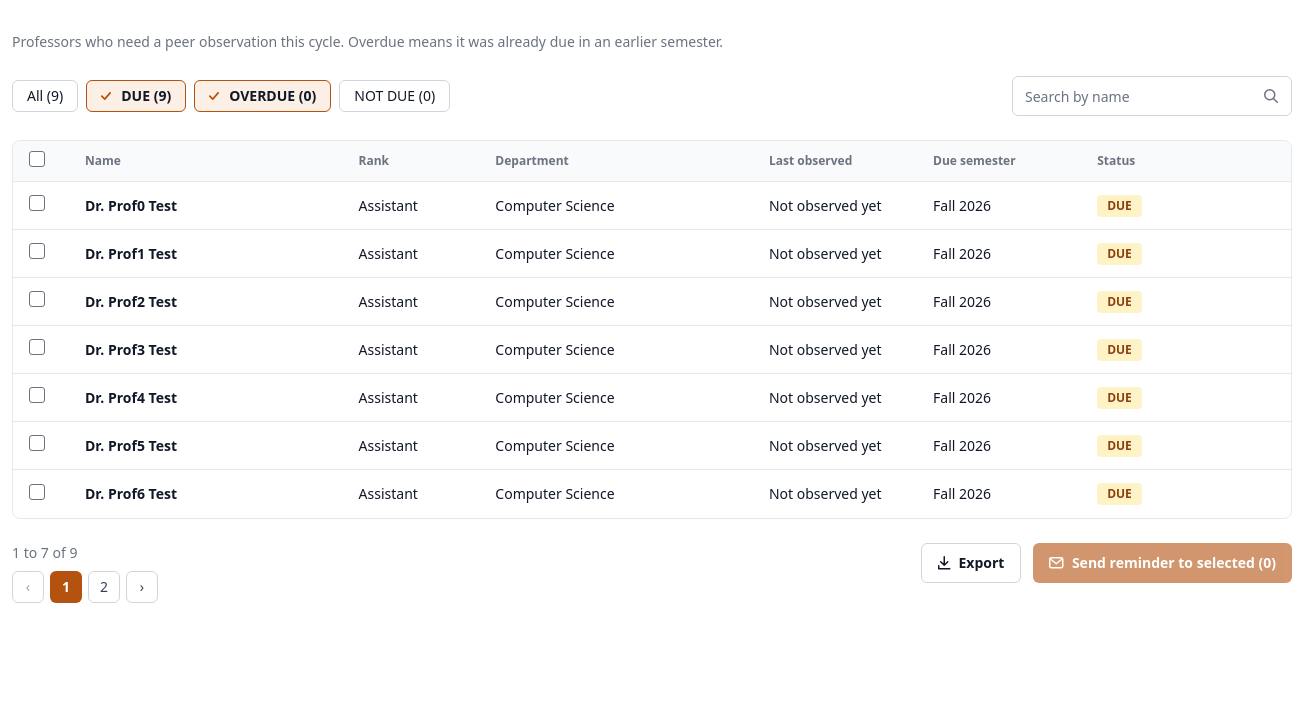
Test: Faculty page: full list › searches by name and pages through long lists
Expected: the text "Dr. Prof0 Test" is shown, [85,196,177,214]
Expected: the text "1 to 7 of 9" is shown, [12,543,77,562]
Click the button named "Page 2" at (104, 587), box [88,571,120,603]
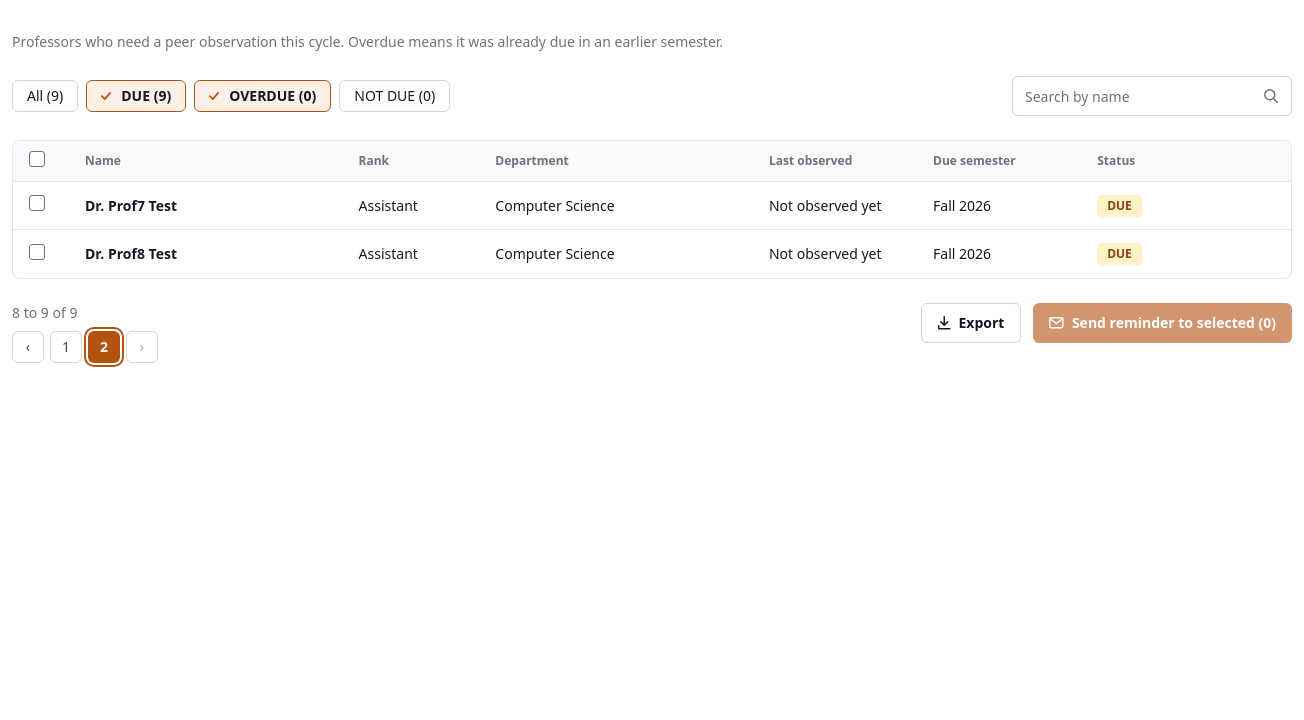
Type "prof3" into the search field labelled "Search by name" at (1152, 96), box [1012,76,1292,116]
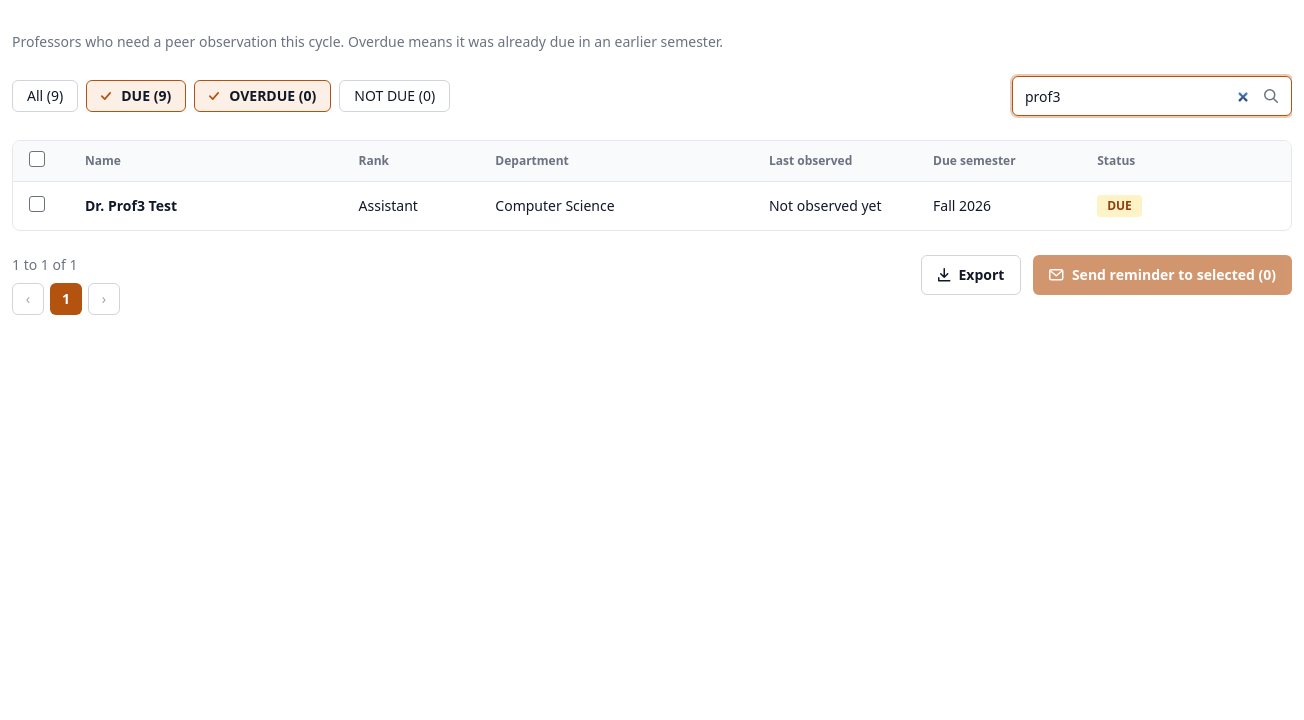
Replace the text in the search field named "Search by name" with "nobody" at (1152, 96), box [1012,76,1292,116]
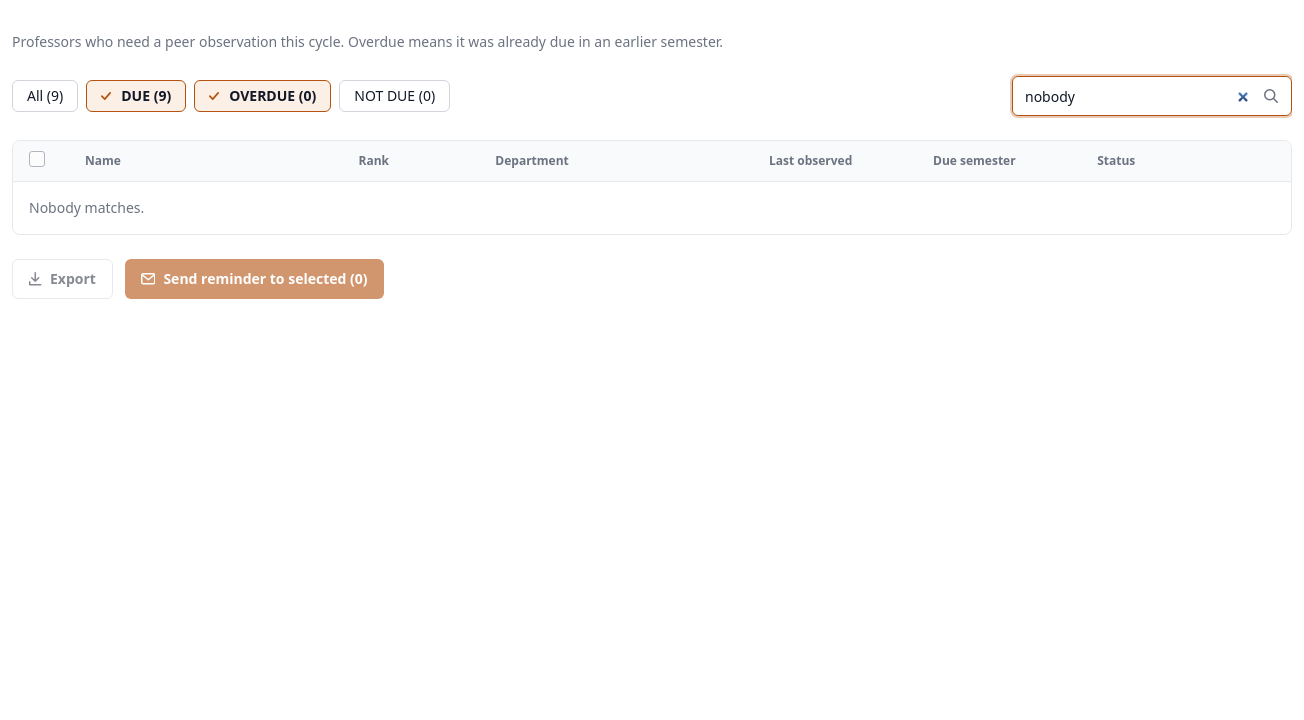
Now the text "Nobody matches." is shown, box [29,198,144,217]
